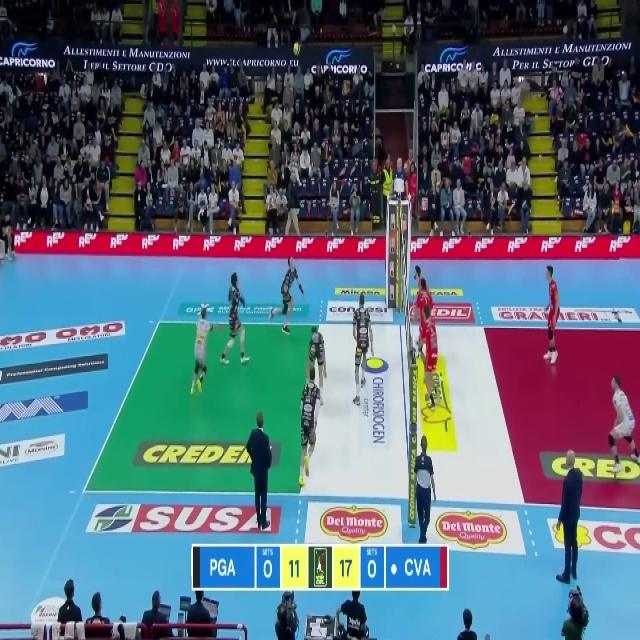volleyball court: (83, 319, 640, 516)
